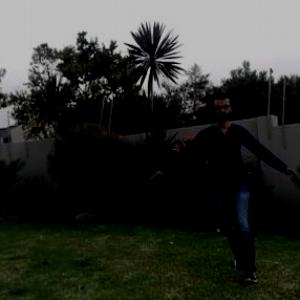land: (149, 96, 279, 256)
